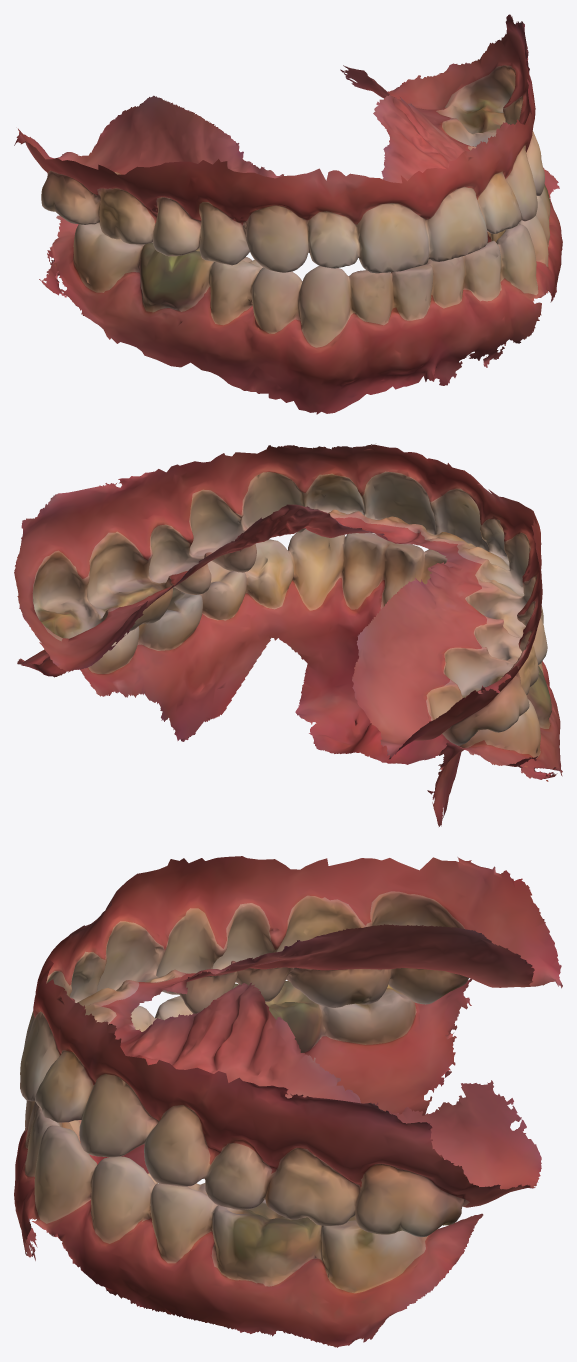
Rendered from Model_Teeth02.fbx.
3 views of the same model, one above another, from view 1: azimuth 30°, elevation 25°; view 2: azimuth 150°, elevation 25°; view 3: azimuth 270°, elevation 25° (orthographic). The views are drawn at different scales.
Visible parts, largest first — view 1: CHO_PLY UpperJawScan, CHO_PLY LowerJawScan; view 2: CHO_PLY UpperJawScan, CHO_PLY LowerJawScan; view 3: CHO_PLY UpperJawScan, CHO_PLY LowerJawScan.
Boxes of the visible parts, x1,y1,x2,y2 form: CHO_PLY UpperJawScan: (14, 14, 544, 273); CHO_PLY LowerJawScan: (39, 168, 562, 414); CHO_PLY UpperJawScan: (14, 444, 547, 759); CHO_PLY LowerJawScan: (17, 529, 562, 826); CHO_PLY UpperJawScan: (20, 856, 562, 1237); CHO_PLY LowerJawScan: (14, 978, 483, 1347).
Bounding box in the file's own units: 152 × 72.55 × 111.
